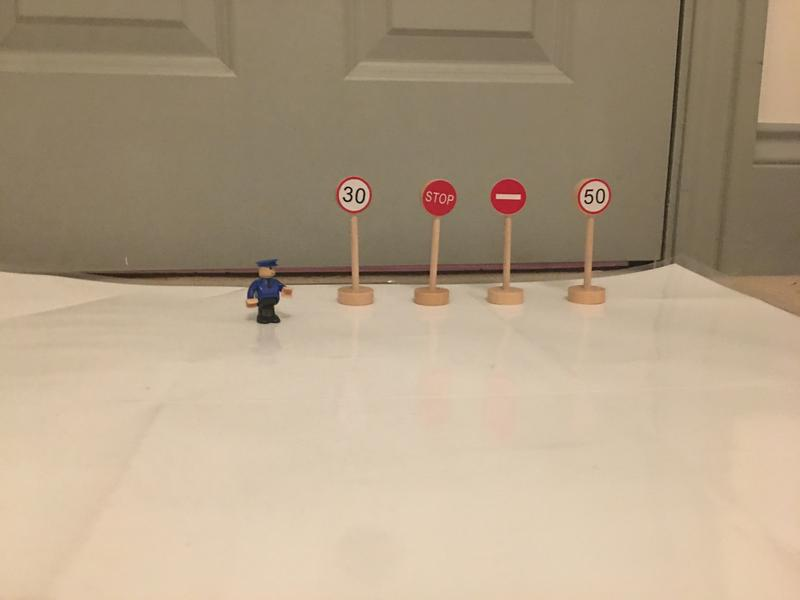Traffic_Sign_30: (338, 177, 372, 214)
Traffic_Sign_50: (578, 179, 611, 213)
Traffic_Sign_No_Entry: (491, 180, 526, 214)
Traffic_Sign_Stop: (423, 180, 457, 217)
person: (243, 259, 294, 326)
